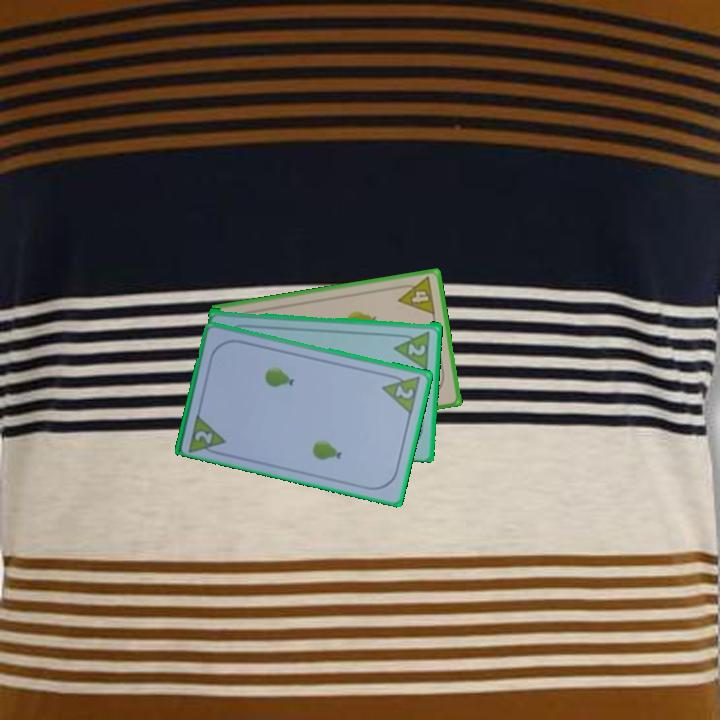2p: (392, 381, 417, 401), (191, 427, 216, 446), (405, 339, 429, 358)
4p: (393, 273, 438, 318)
